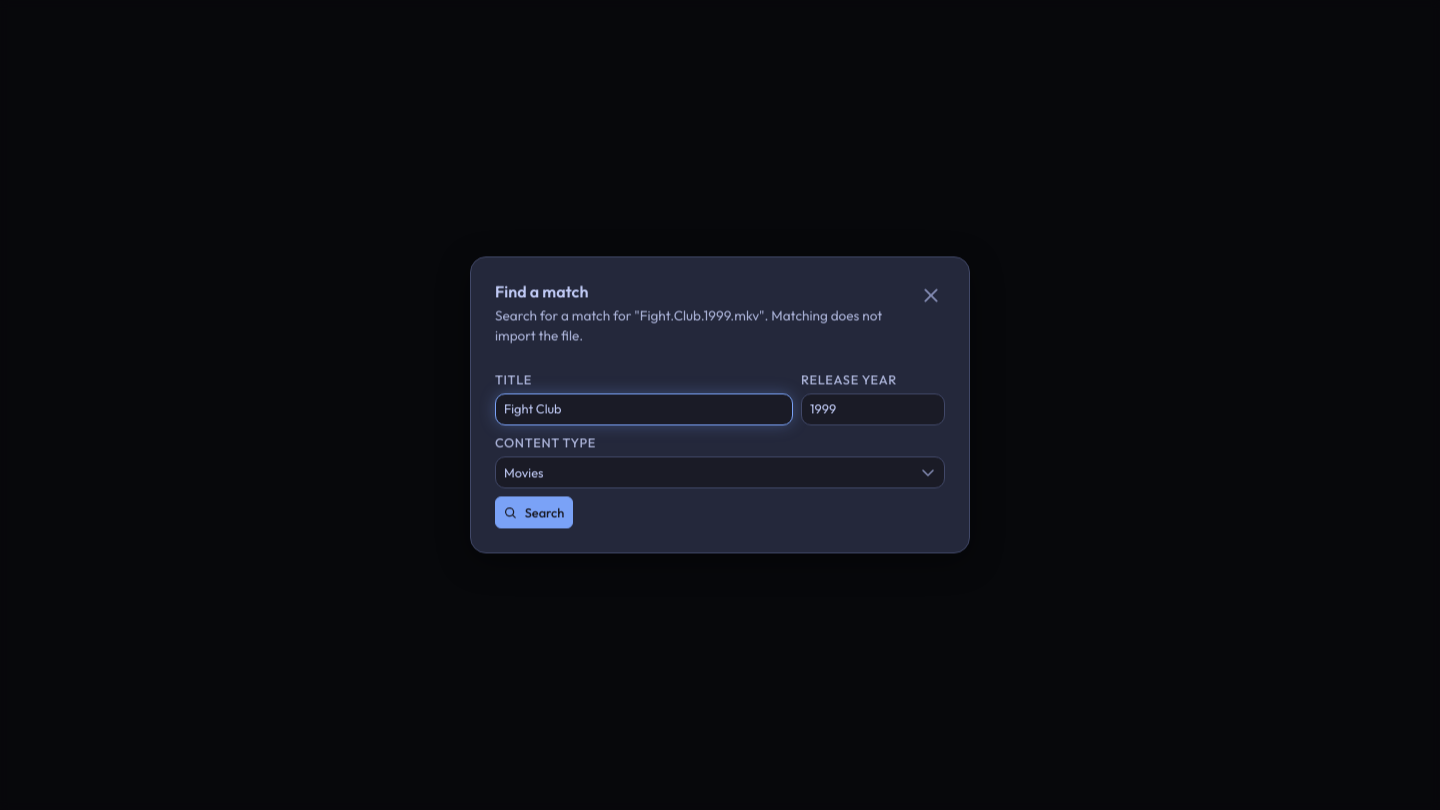
Test: ManualMatchDialog › Search_ReturnsToFirstPage_WhenNewSearchStartsAfterPaging
The image size is (1440, 810).
What coordinates should you click on to do the following:
click the button "Search"
I would click on:
 (534, 513)
Its box is [495,497,573,529].
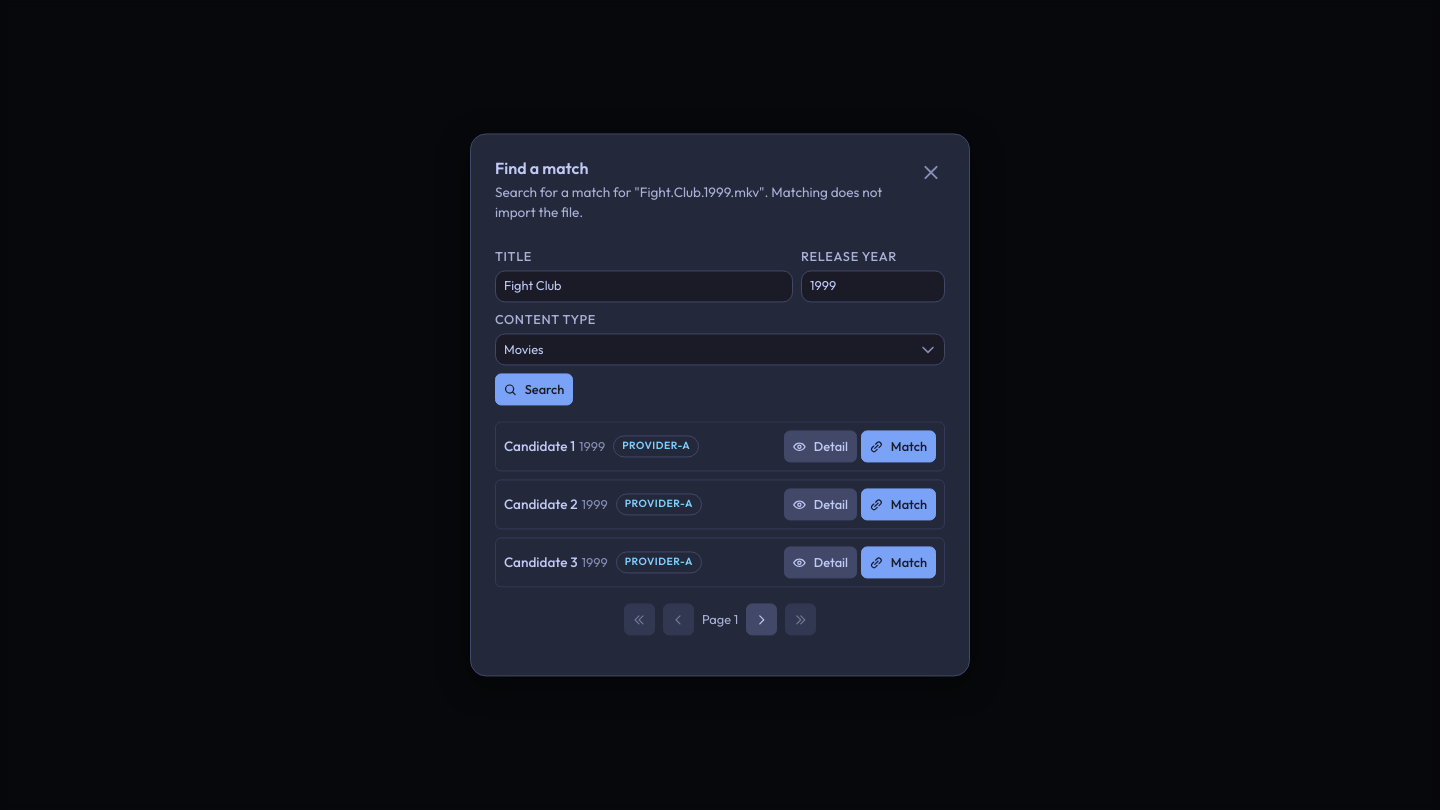
expect the navigation bar with test id "manual-match-dialog__pagination" reads "Page 1": met, box [702,611,738,627]
expect the button named "Go to next page" is enabled: met
expect the text "Candidate 1" is shown: met, box [504,437,575,455]
What coordinates should you click on to do the following:
click the button named "Go to next page"
I would click on:
 (762, 620)
Its box is [746,604,777,636].
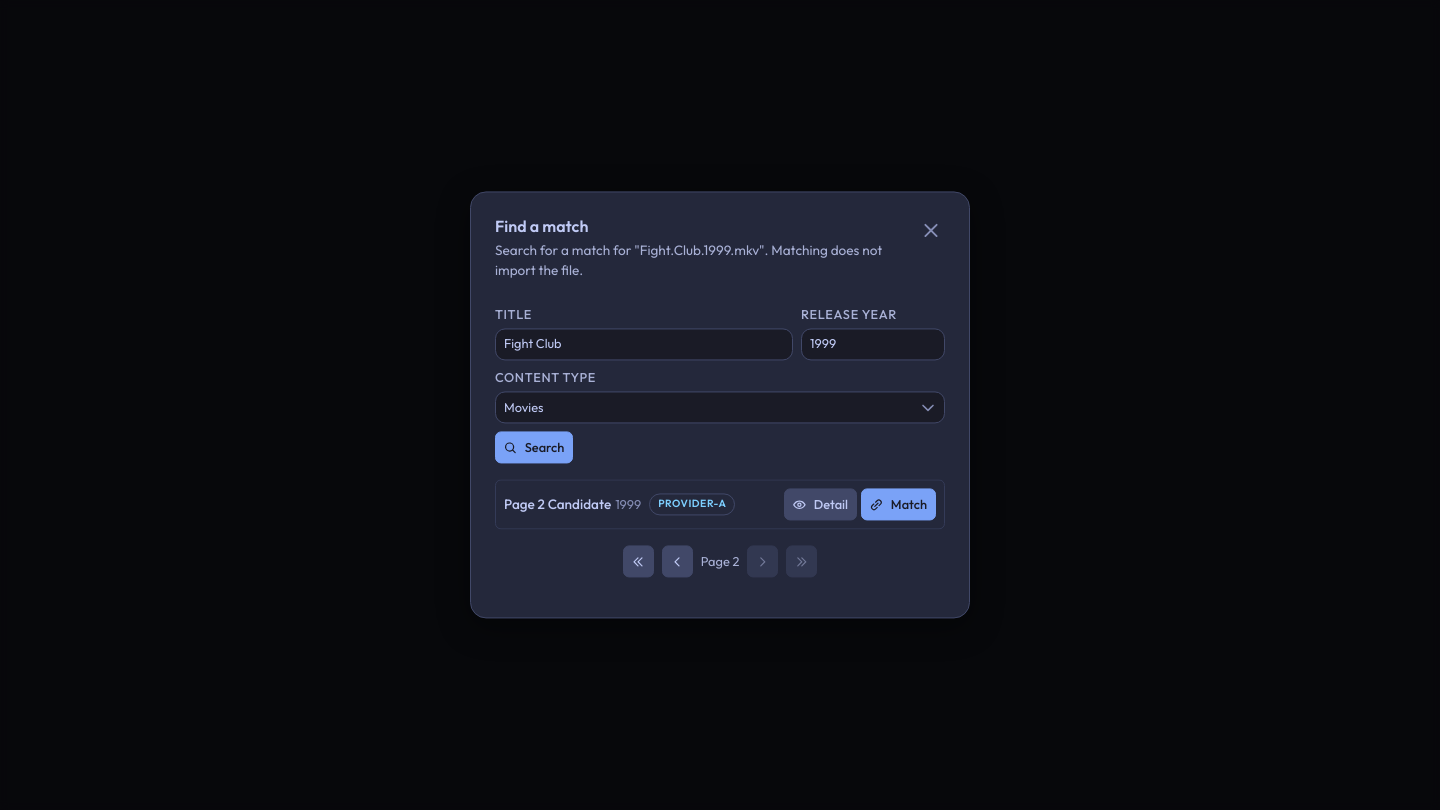
expect the button named "Go to next page" is disabled: met, box [747,546,778,578]
expect the navigation bar with test id "manual-match-dialog__pagination" reads "Page 2": met, box [701,553,739,569]
expect the text "Page 2 Candidate" is shown: met, box [504,495,611,513]
What coordinates should you click on to do the following:
click the button "Search"
I would click on:
 (534, 448)
Its box is [495,432,573,464].
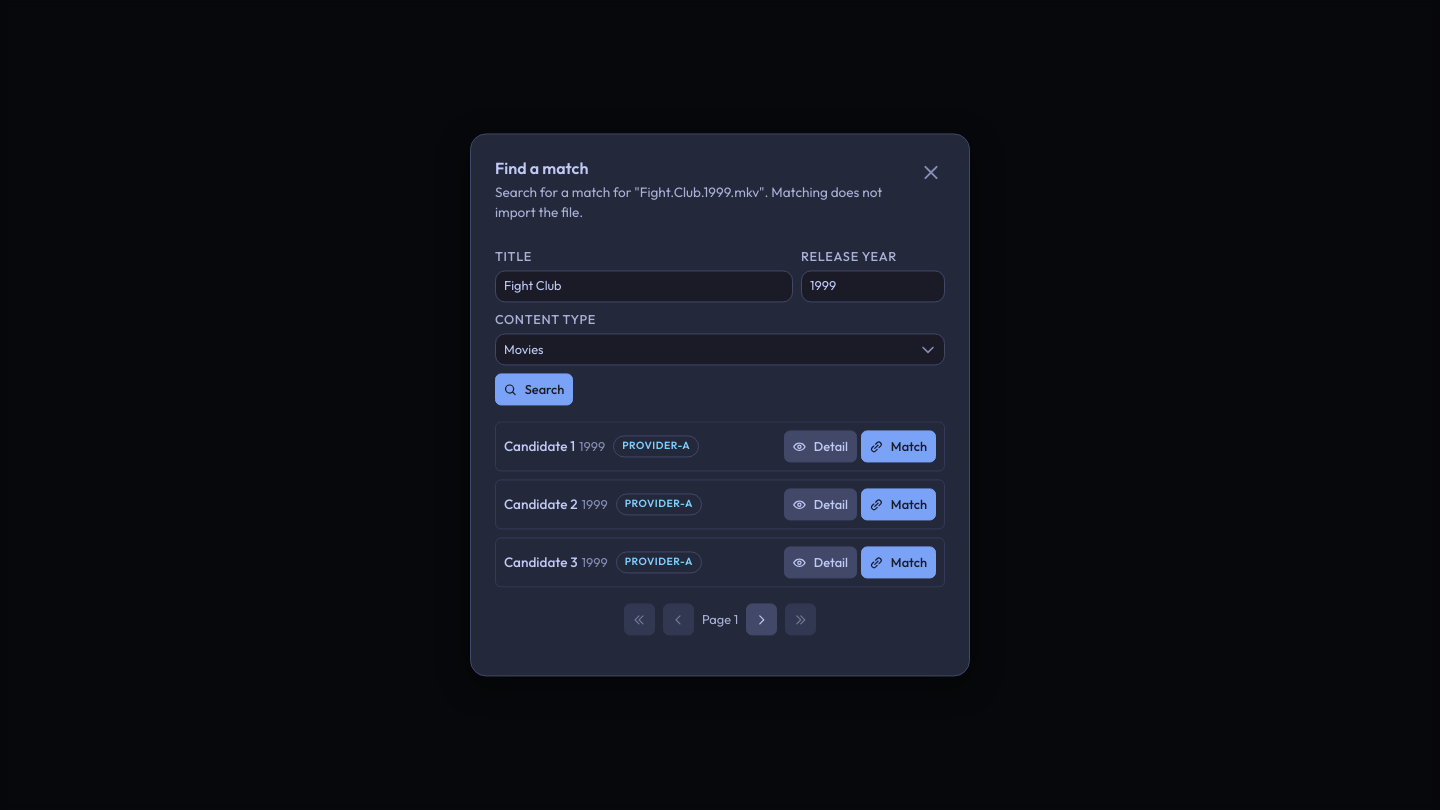
expect the navigation bar with test id "manual-match-dialog__pagination" reads "Page 1": met, box [702,611,738,627]
